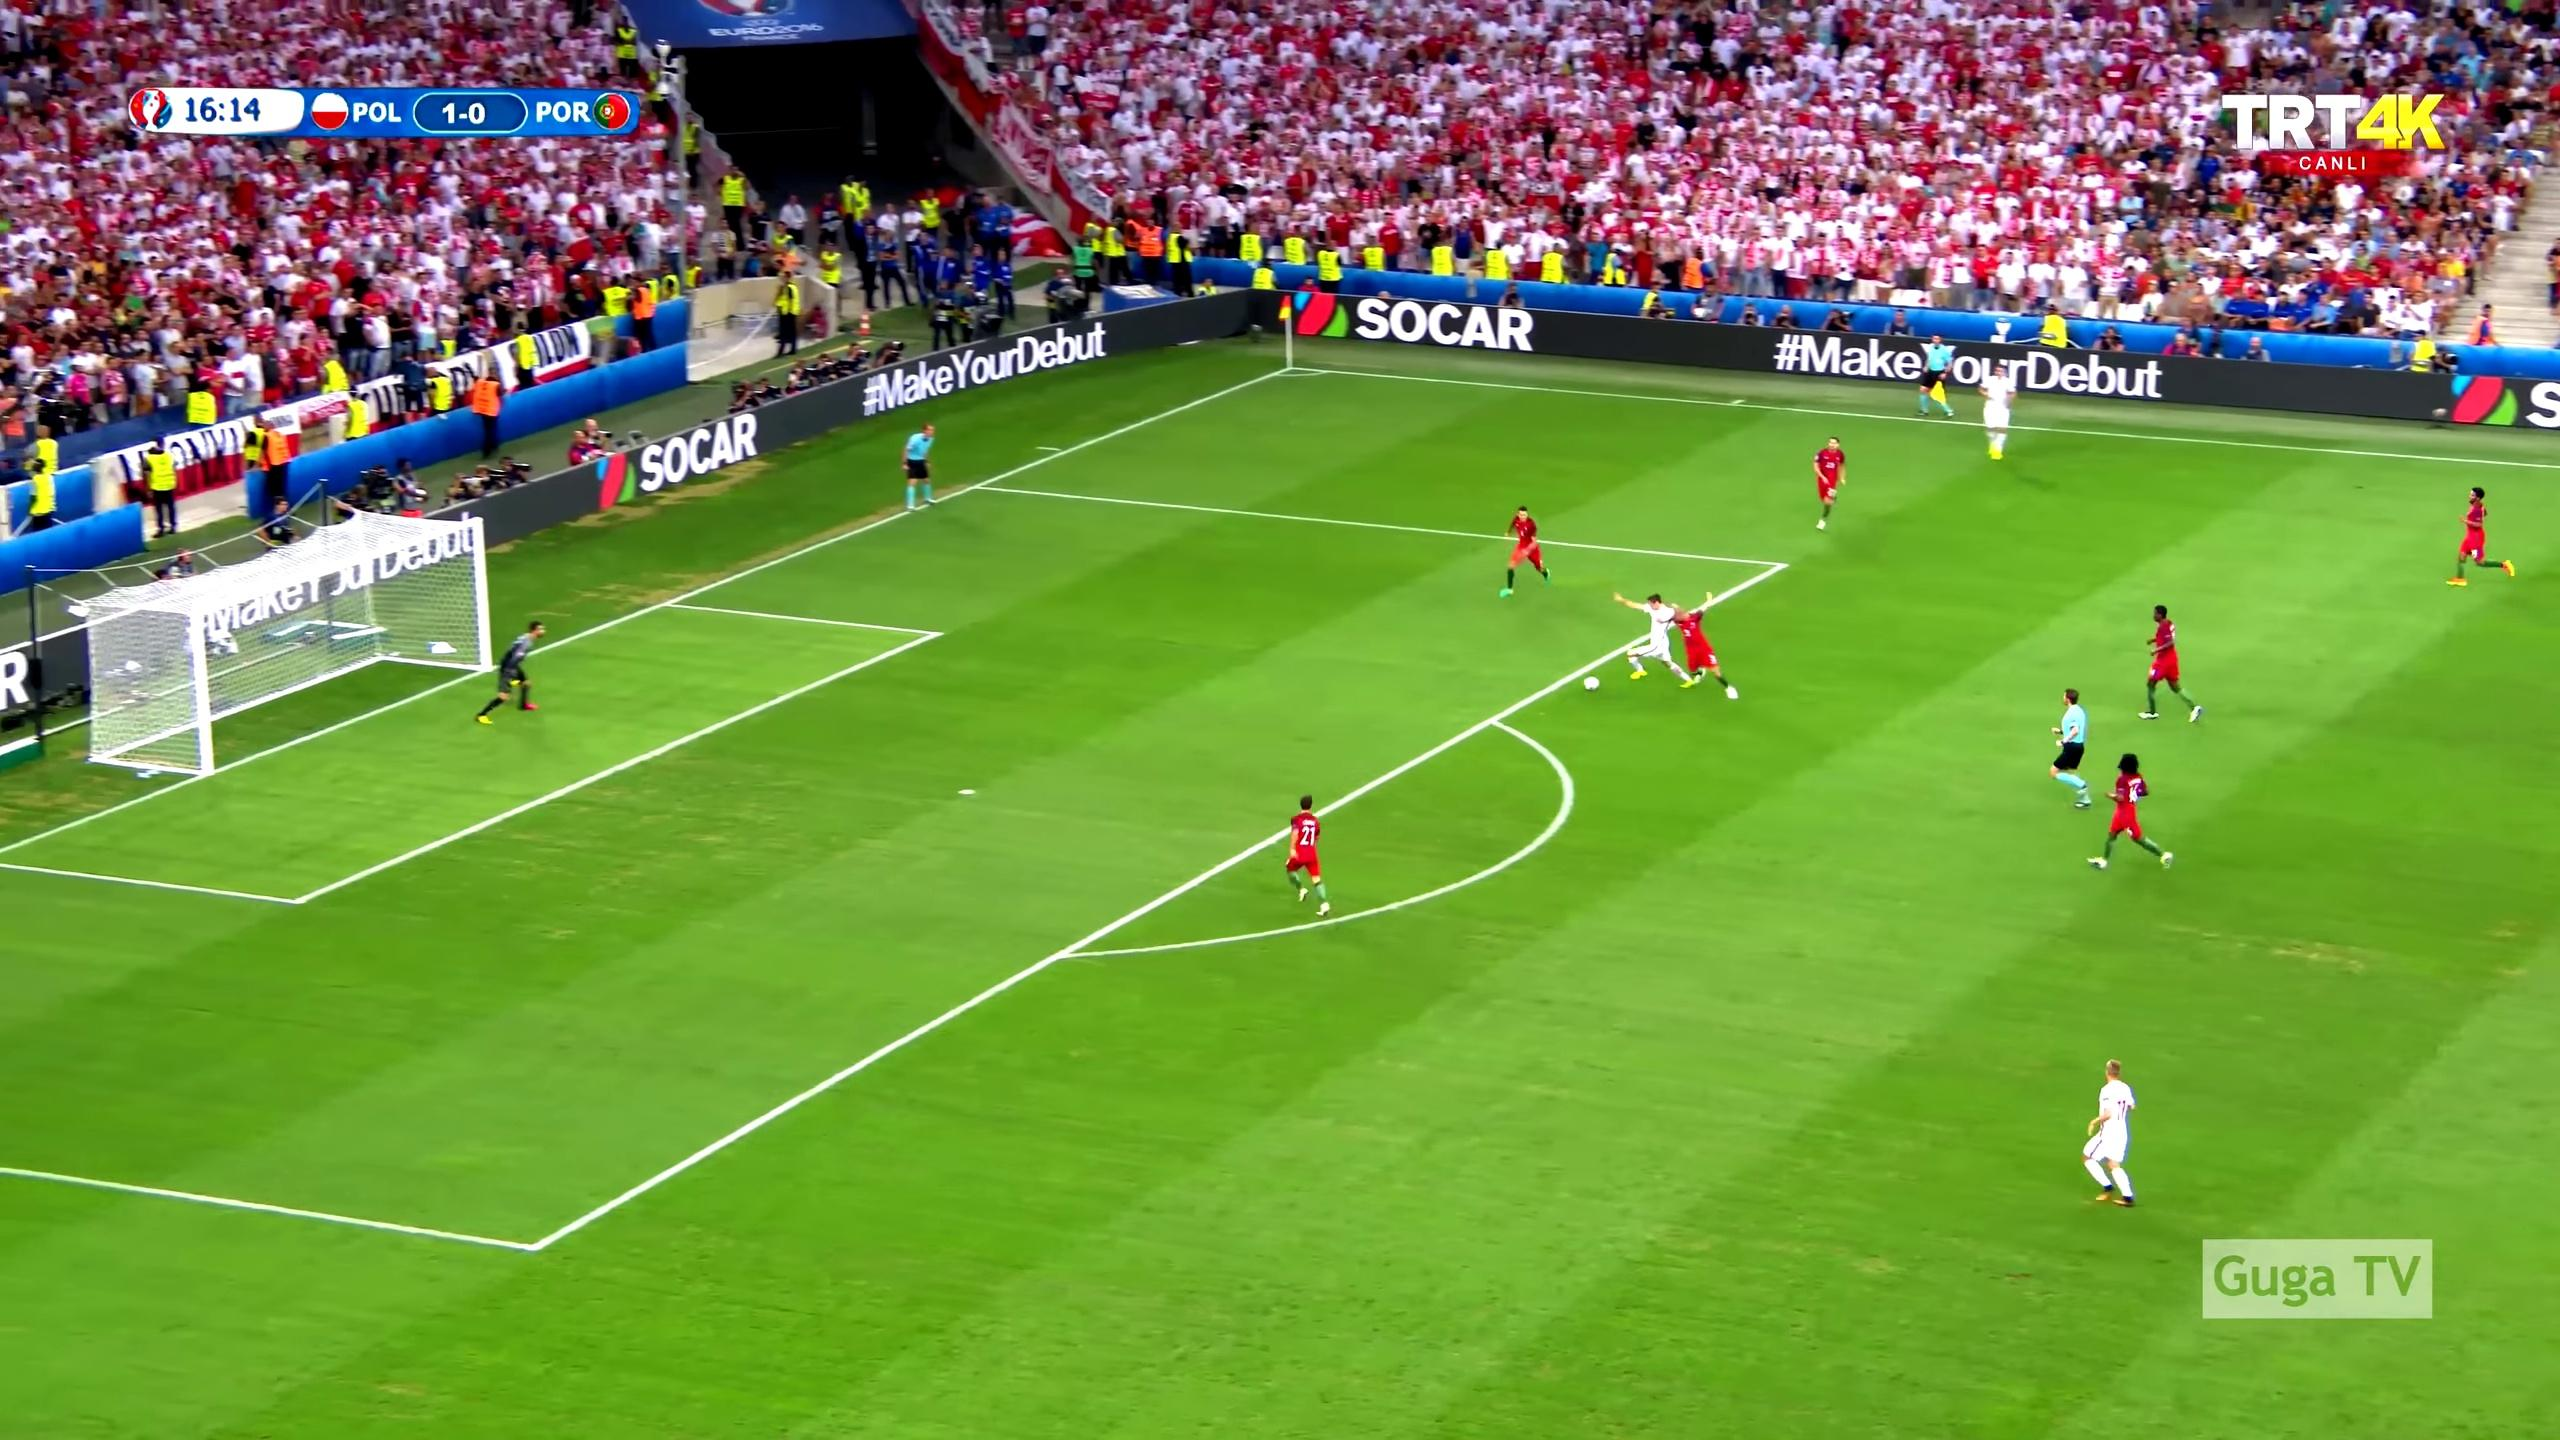ball: (1574, 668, 1607, 700)
goalkeeper: (469, 614, 555, 731)
player: (2084, 754, 2177, 876), (2133, 596, 2210, 727), (2084, 1056, 2144, 1215), (1603, 586, 1690, 691), (1664, 590, 1742, 702), (2442, 482, 2520, 589), (1278, 789, 1337, 921), (1492, 506, 1557, 596), (1803, 433, 1857, 535), (1976, 362, 2026, 464)
referee: (2045, 682, 2097, 815), (894, 416, 947, 520), (1911, 328, 1957, 425)
